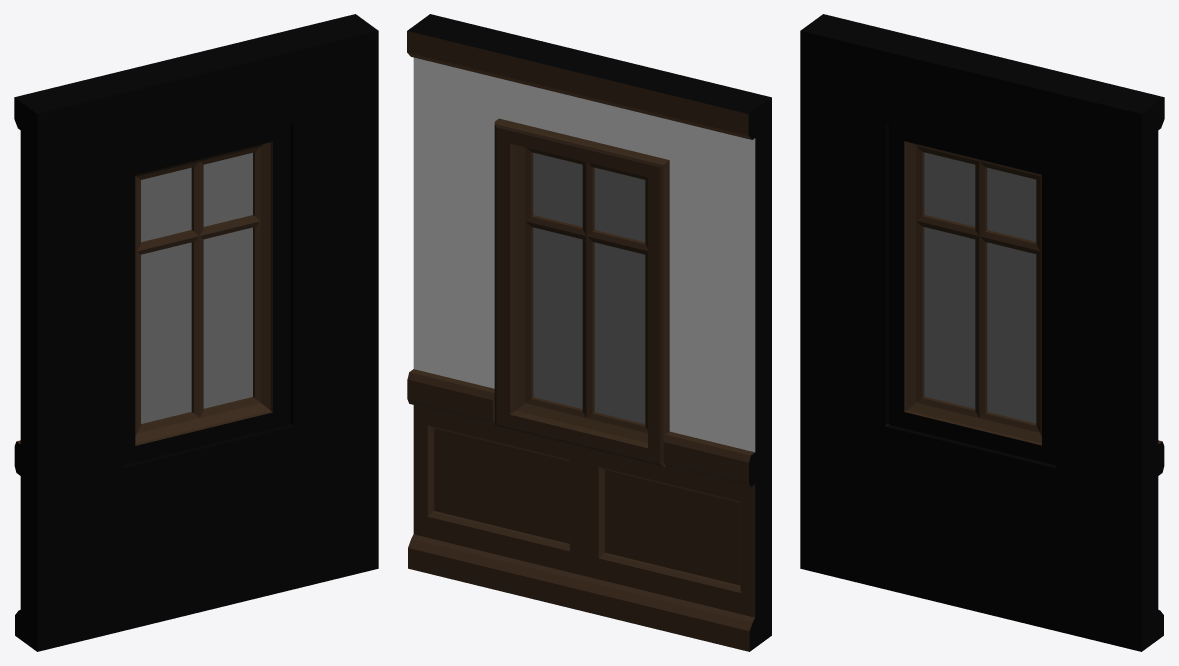
The model's file is Wall_01_Window.fbx.
3 views of the same model, side by side, from view 1: azimuth 30°, elevation 25°; view 2: azimuth 150°, elevation 25°; view 3: azimuth 330°, elevation 25° (orthographic).
Parts seen in each view (by area): view 1: Cube.109; view 2: Cube.109; view 3: Cube.109.
Boxes of the visible parts, <box> form: Cube.109: <box>14,14,378,651</box>; Cube.109: <box>407,14,771,651</box>; Cube.109: <box>800,14,1164,651</box>.
Bounding box in the file's own units: 0.2334 × 2 × 3.01.
